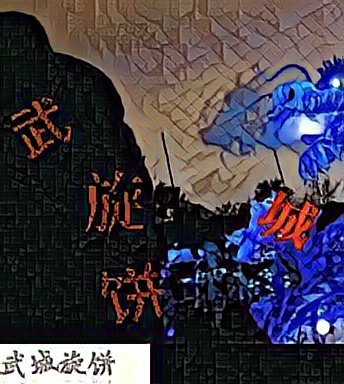B1FD: (99, 264, 165, 328)
B3C7: (255, 186, 321, 250)
CEE4: (6, 94, 72, 158)
D0FD: (82, 169, 148, 233)
